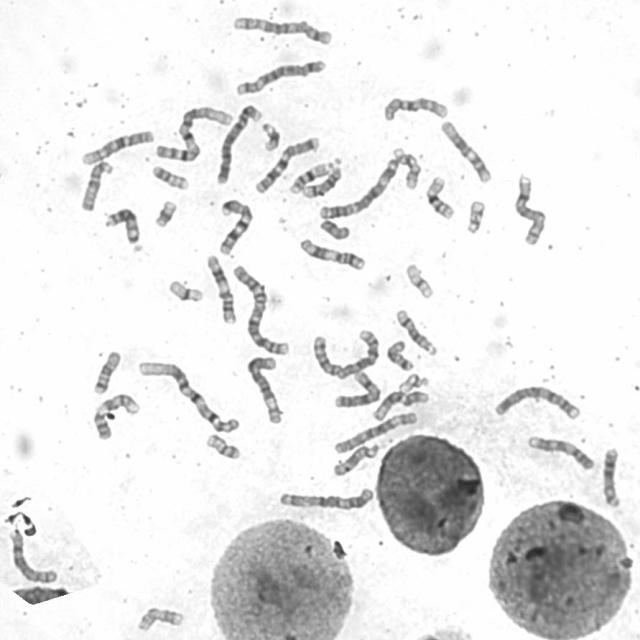A1: (133, 355, 242, 435), (151, 102, 235, 163)
A2: (229, 260, 291, 357), (308, 324, 382, 380)
A3: (316, 152, 402, 220), (275, 483, 376, 512)
B4: (213, 100, 263, 186), (490, 381, 582, 421)
B5: (233, 56, 327, 97), (230, 12, 334, 46)
C10: (77, 125, 155, 166), (379, 92, 450, 122)
C11: (296, 235, 368, 272), (203, 251, 237, 325)
C12: (437, 116, 493, 184), (371, 386, 435, 422)
C6: (330, 408, 420, 456), (242, 352, 285, 424)
C7: (250, 132, 322, 195), (214, 196, 256, 256)
C8: (6, 526, 59, 586), (511, 170, 547, 247)
C9: (524, 431, 597, 473), (89, 389, 141, 441)
D13: (100, 203, 142, 246), (598, 443, 623, 509)
D14: (392, 304, 438, 357), (297, 162, 344, 199)
D15: (75, 156, 115, 212), (329, 439, 380, 478)
E16: (285, 156, 343, 196), (422, 172, 456, 220)
E17: (132, 603, 185, 633), (389, 143, 422, 190)
E18: (89, 346, 122, 396), (383, 336, 415, 372)
F19: (402, 260, 436, 300), (164, 275, 204, 304)
F20: (147, 162, 190, 191), (202, 430, 241, 461)
G21: (150, 196, 178, 229), (257, 118, 282, 152)
G22: (462, 196, 487, 235), (396, 370, 429, 394)
X: (330, 367, 382, 409)
Y: (315, 215, 352, 241)
